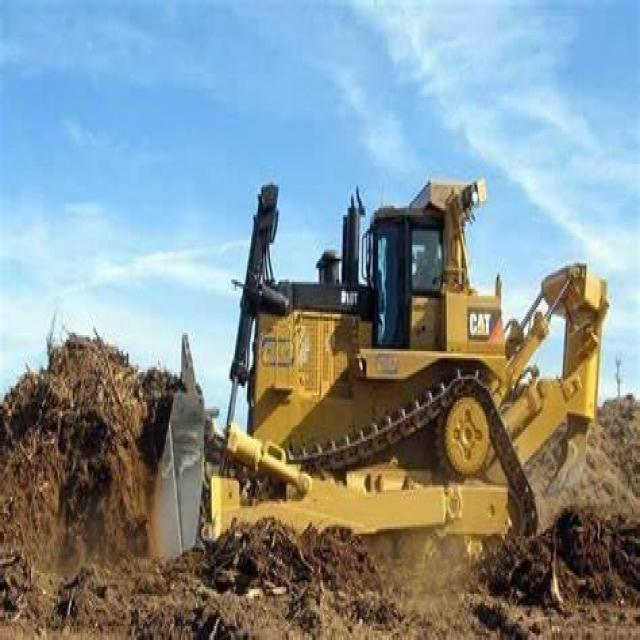Bulldozer: (142, 120, 612, 589)
